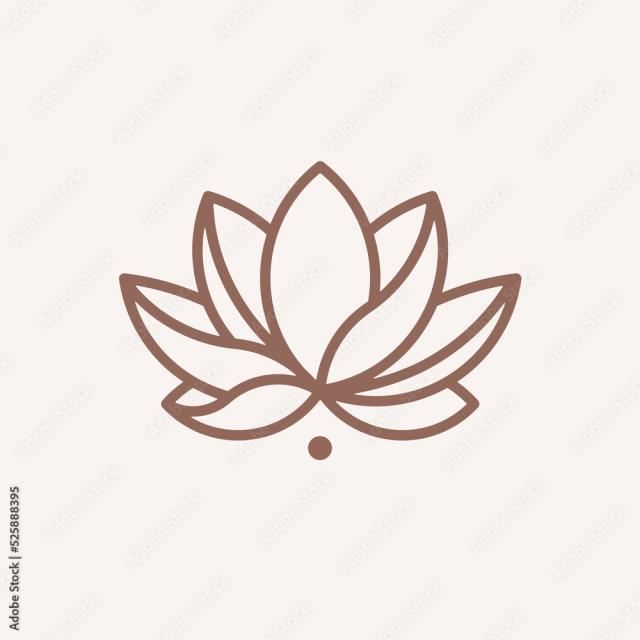Flower: (115, 160, 530, 462)
